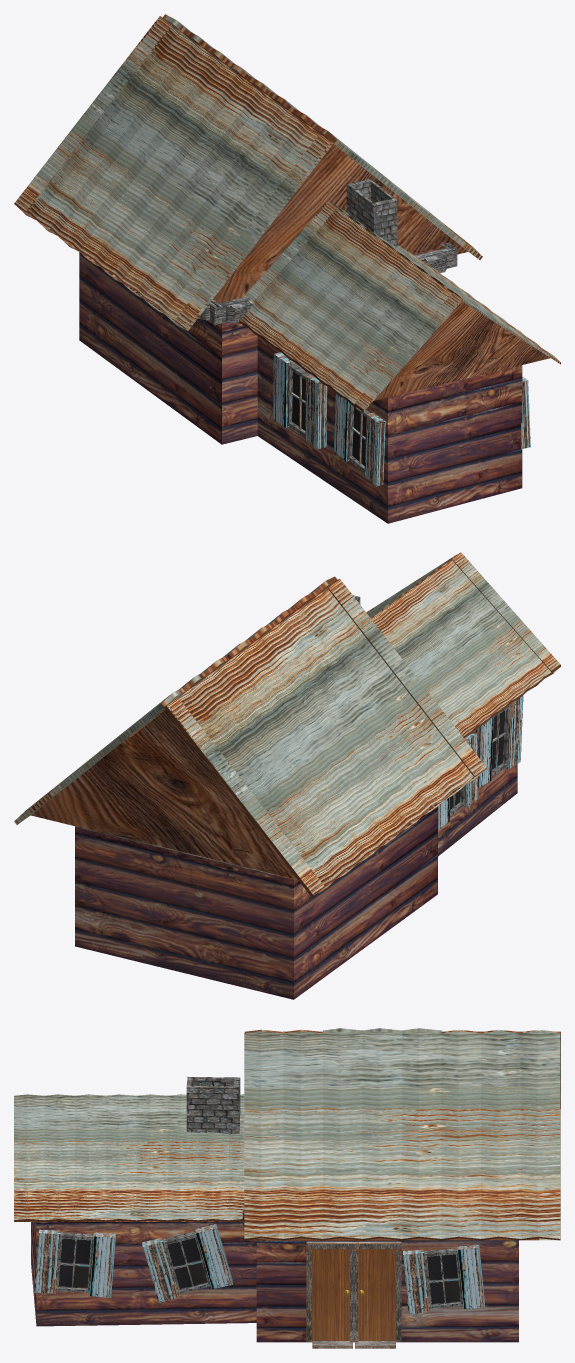
Rendered from newHouse2.fbx.
3 renders of one model, top to bottom at view 1: azimuth 30°, elevation 25°; view 2: azimuth 150°, elevation 25°; view 3: azimuth 270°, elevation 25°, orthographic. The views are drawn at different scales.
Parts seen in each view (by area): view 1: Roof.004, Roof.005, Housebase.001, housebase.002, Window.009, Window.008, Chimney.001, Stonefringe.002; view 2: Roof.004, housebase.002, Roof.005, Window.008, Housebase.001, Window.009; view 3: Roof.004, Roof.005, Housebase.001, housebase.002, Door.001, Door.002, Window.005, Window.007, Window.006, Chimney.001.
Boxes of the visible parts, bbox=[...] form: Roof.004: bbox=[14, 14, 482, 330]; Roof.005: bbox=[239, 201, 560, 411]; Housebase.001: bbox=[257, 336, 522, 523]; housebase.002: bbox=[79, 249, 434, 444]; Window.009: bbox=[273, 352, 327, 449]; Window.008: bbox=[334, 393, 385, 486]; Chimney.001: bbox=[346, 178, 397, 247]; Stonefringe.002: bbox=[198, 242, 457, 325]; Roof.004: bbox=[14, 576, 486, 896]; housebase.002: bbox=[75, 806, 437, 999]; Roof.005: bbox=[366, 552, 560, 737]; Window.008: bbox=[476, 695, 523, 787]; Housebase.001: bbox=[438, 729, 517, 856]; Window.009: bbox=[438, 732, 477, 829]; Roof.004: bbox=[244, 1028, 560, 1240]; Roof.005: bbox=[14, 1094, 244, 1221]; Housebase.001: bbox=[31, 1222, 256, 1326]; housebase.002: bbox=[256, 1240, 518, 1342]; Door.001: bbox=[306, 1241, 358, 1348]; Door.002: bbox=[349, 1241, 401, 1348]; Window.005: bbox=[34, 1229, 115, 1297]; Window.007: bbox=[403, 1245, 485, 1314]; Window.006: bbox=[142, 1224, 232, 1302]; Chimney.001: bbox=[186, 1076, 240, 1134].
Bounding box in the file's own units: 1884 × 1745 × 3268.
